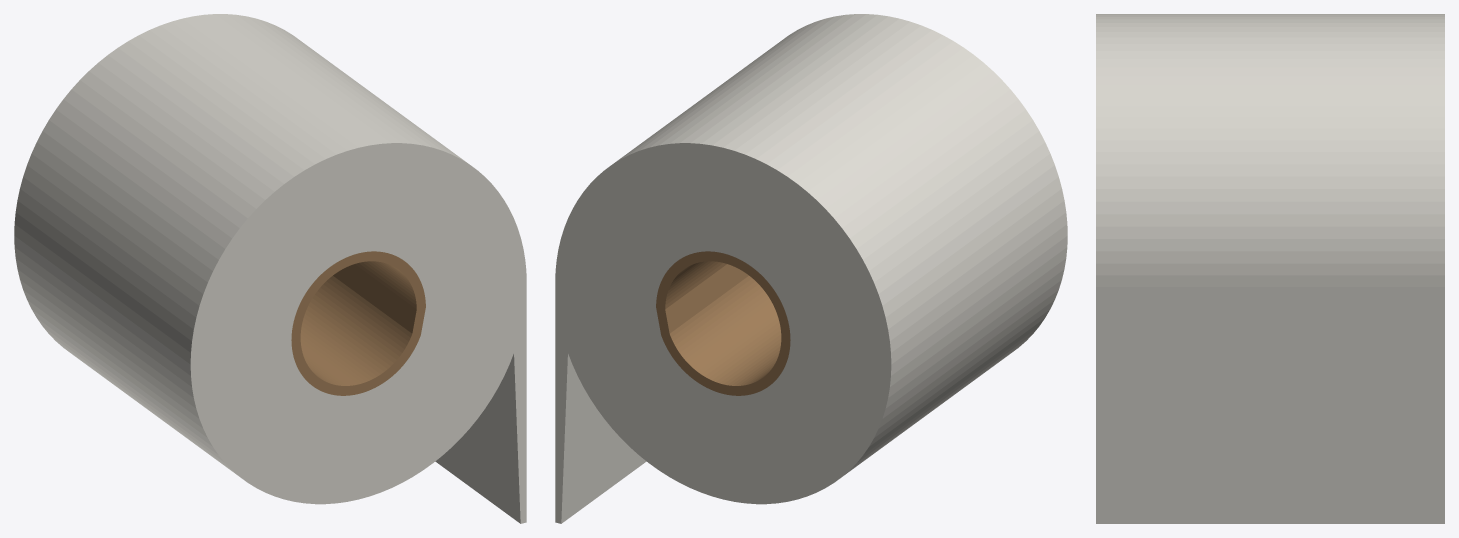
Rendered from NEW_RECOVERY_033_LOD0.glb.
The picture shows the model from 3 angles, left to right: view 1: azimuth 30°, elevation 25°; view 2: azimuth 150°, elevation 25°; view 3: azimuth 270°, elevation 25°; orthographic projection.
Parts seen in each view (by area): view 1: Toilet_paper_roll; view 2: Toilet_paper_roll; view 3: Toilet_paper_roll.
Boxes of the visible parts, <box> form: Toilet_paper_roll: <box>14,14,526,523</box>; Toilet_paper_roll: <box>555,14,1067,523</box>; Toilet_paper_roll: <box>1096,14,1444,523</box>.
Size of the model in its own units: 0.11 by 0.13 by 0.1.
